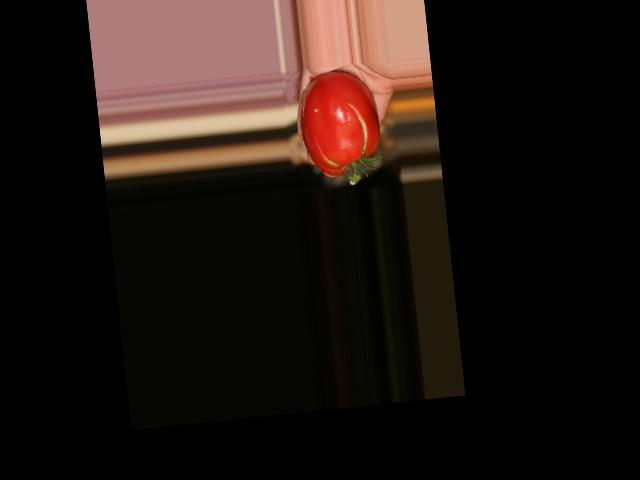tomato: (295, 67, 382, 179)
